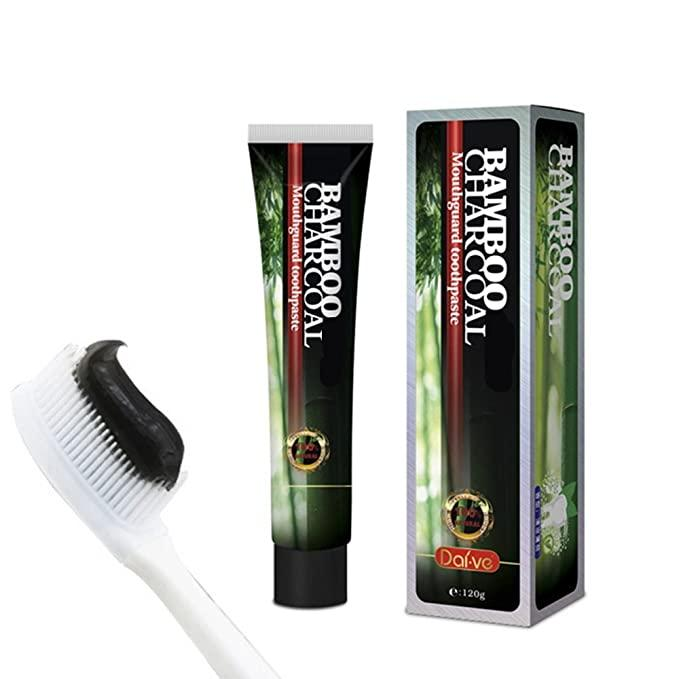toothpaste: (220, 90, 394, 612)
